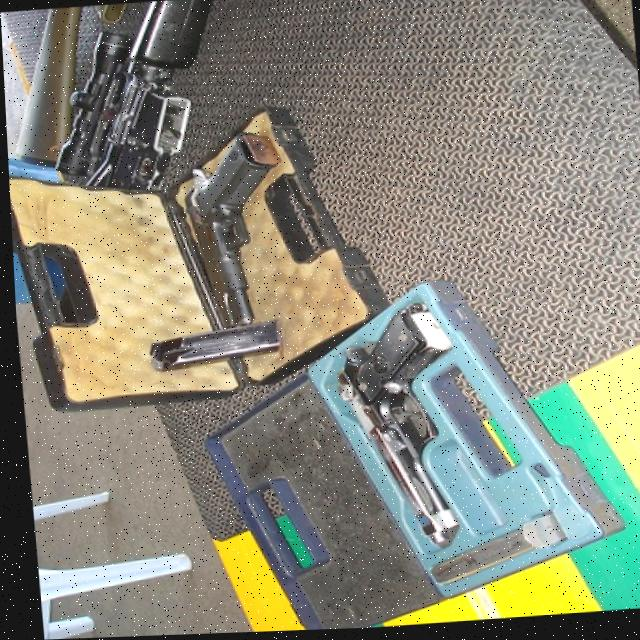firearm: (37, 0, 227, 195), (0, 2, 144, 171)
pistol: (324, 302, 461, 556), (177, 131, 290, 332)
